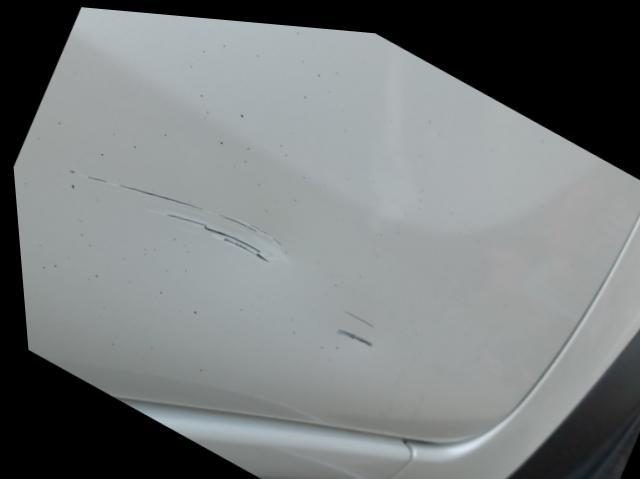scratch: (64, 167, 286, 261), (323, 300, 374, 340)
